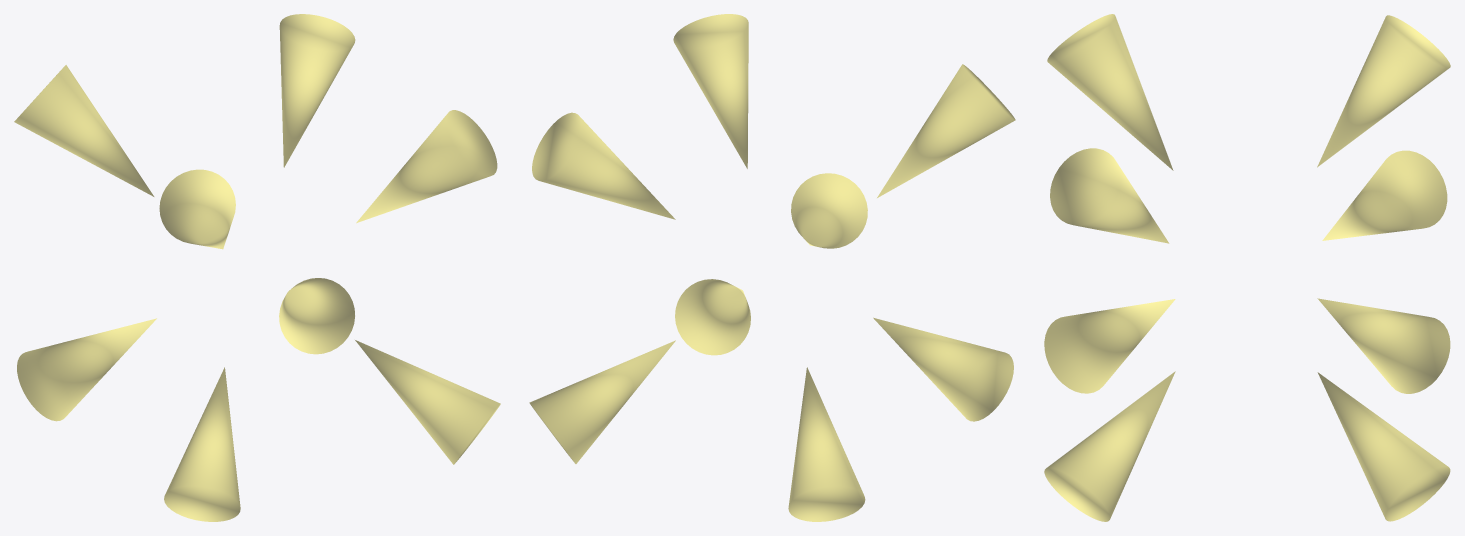
The model's file is crosshair.glb.
3 views of the same model, side by side, from view 1: azimuth 30°, elevation 25°; view 2: azimuth 150°, elevation 25°; view 3: azimuth 270°, elevation 25° (orthographic). The views are drawn at different scales.
Parts seen in each view (by area): view 1: Cone.001, Cone.006, Cone.007, Cone, Cone.003, Cone.004, Cone.005, Cone.002; view 2: Cone.007, Cone, Cone.006, Cone.001, Cone.005, Cone.002, Cone.003, Cone.004; view 3: Cone.002, Cone.003, Cone.005, Cone.004, Cone, Cone.001, Cone.006, Cone.007.
Part boxes in pixels (box(x1,y1,x2,y2)): Cone.001: box(164, 367, 240, 521); Cone.006: box(279, 14, 355, 167); Cone.007: box(356, 110, 497, 223); Cone: box(17, 318, 156, 421); Cone.003: box(355, 340, 500, 464); Cone.004: box(14, 65, 154, 196); Cone.005: box(159, 169, 235, 249); Cone.002: box(279, 278, 354, 354); Cone.007: box(673, 14, 748, 168); Cone: box(788, 367, 865, 521); Cone.006: box(532, 112, 675, 219); Cone.001: box(873, 317, 1013, 421); Cone.005: box(877, 64, 1015, 197); Cone.002: box(529, 340, 675, 463); Cone.003: box(675, 279, 750, 355); Cone.004: box(791, 173, 867, 248); Cone.002: box(1317, 372, 1450, 521); Cone.003: box(1044, 371, 1175, 521); Cone.005: box(1047, 14, 1173, 170); Cone.004: box(1317, 15, 1450, 167); Cone: box(1317, 298, 1450, 393); Cone.001: box(1044, 299, 1175, 393); Cone.006: box(1322, 150, 1447, 240); Cone.007: box(1050, 148, 1169, 243).
Bounding box in the file's own units: 1.99 × 2 × 1.97.
